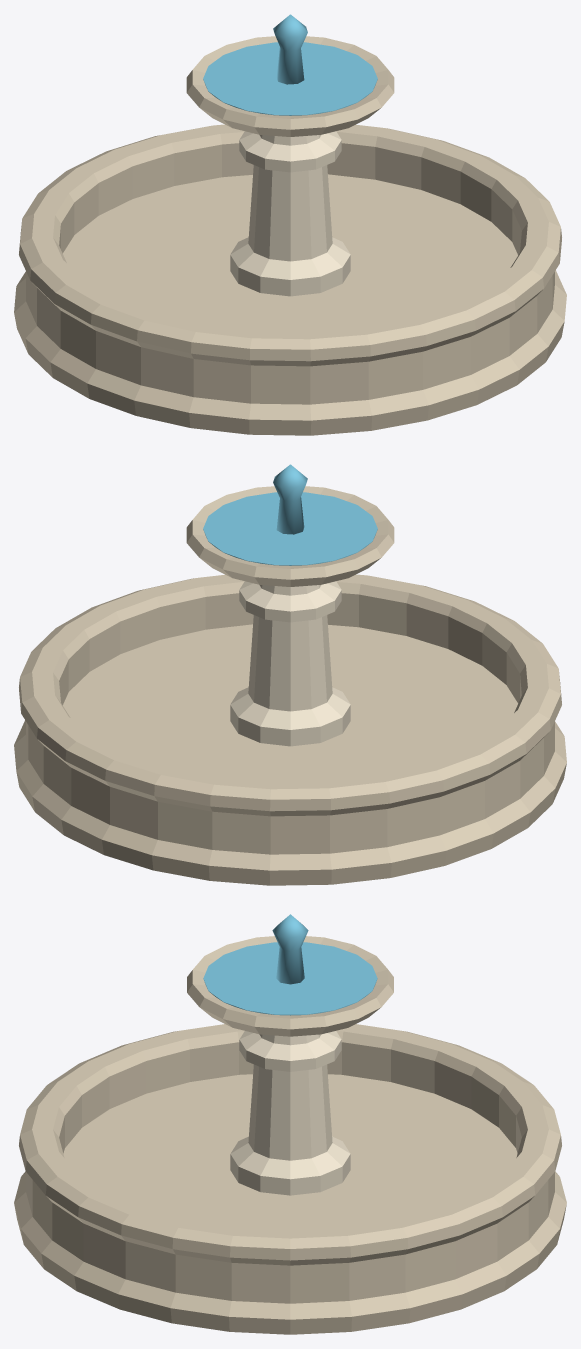
File: chafariz.glb
3 renders of one model, top to bottom at view 1: azimuth 30°, elevation 25°; view 2: azimuth 150°, elevation 25°; view 3: azimuth 270°, elevation 25°, orthographic.
Parts seen in each view (by area): view 1: chafariz; view 2: chafariz; view 3: chafariz.
Part boxes in pixels (left/top/right/bottom): chafariz: left=14, top=14, right=566, bottom=435; chafariz: left=14, top=464, right=566, bottom=885; chafariz: left=14, top=914, right=566, bottom=1334.
Bounding box in the file's own units: 0.92 × 0.56 × 0.92.
